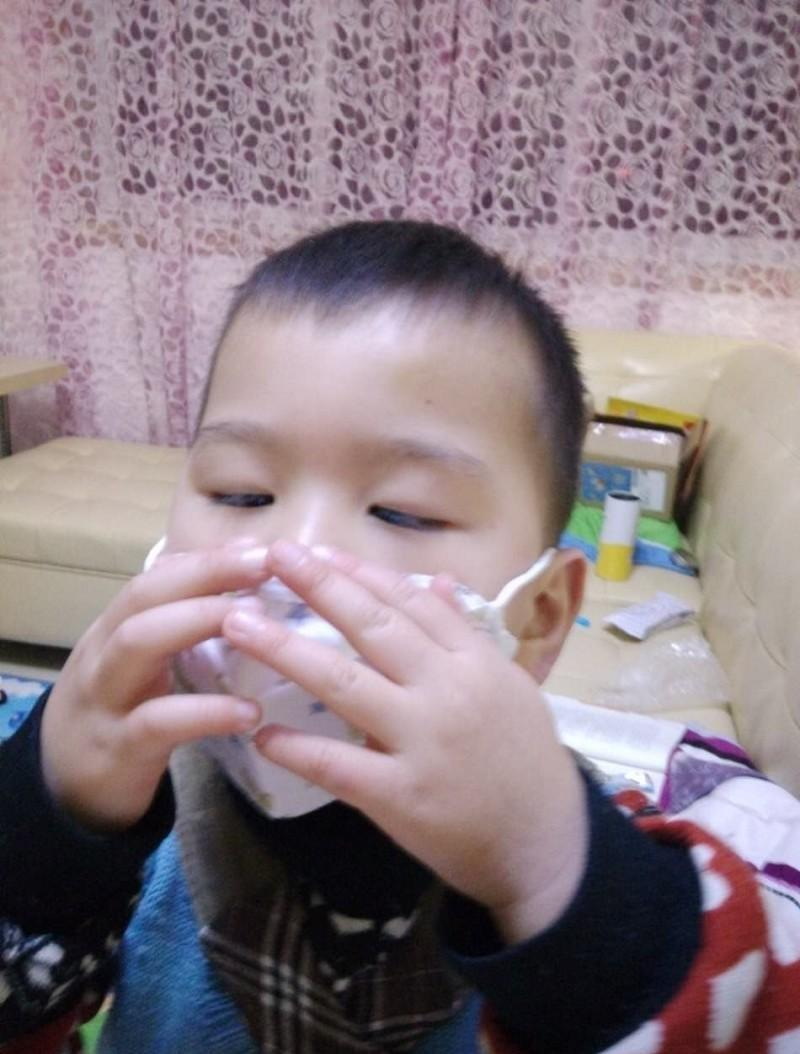WRONG: (163, 399, 548, 784)
